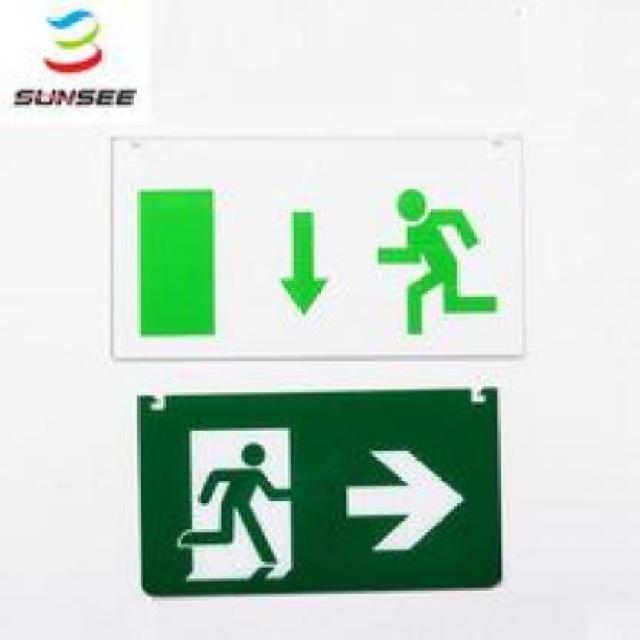exit_sign: (108, 129, 524, 357), (122, 382, 504, 596)
